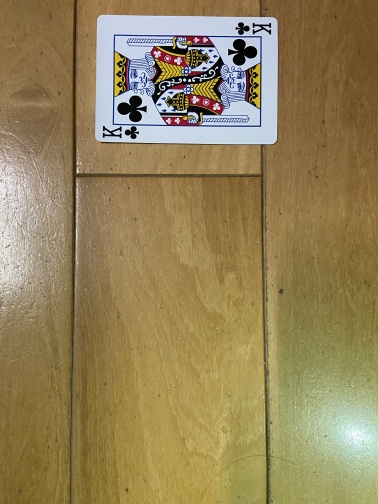king: (94, 14, 280, 146)
